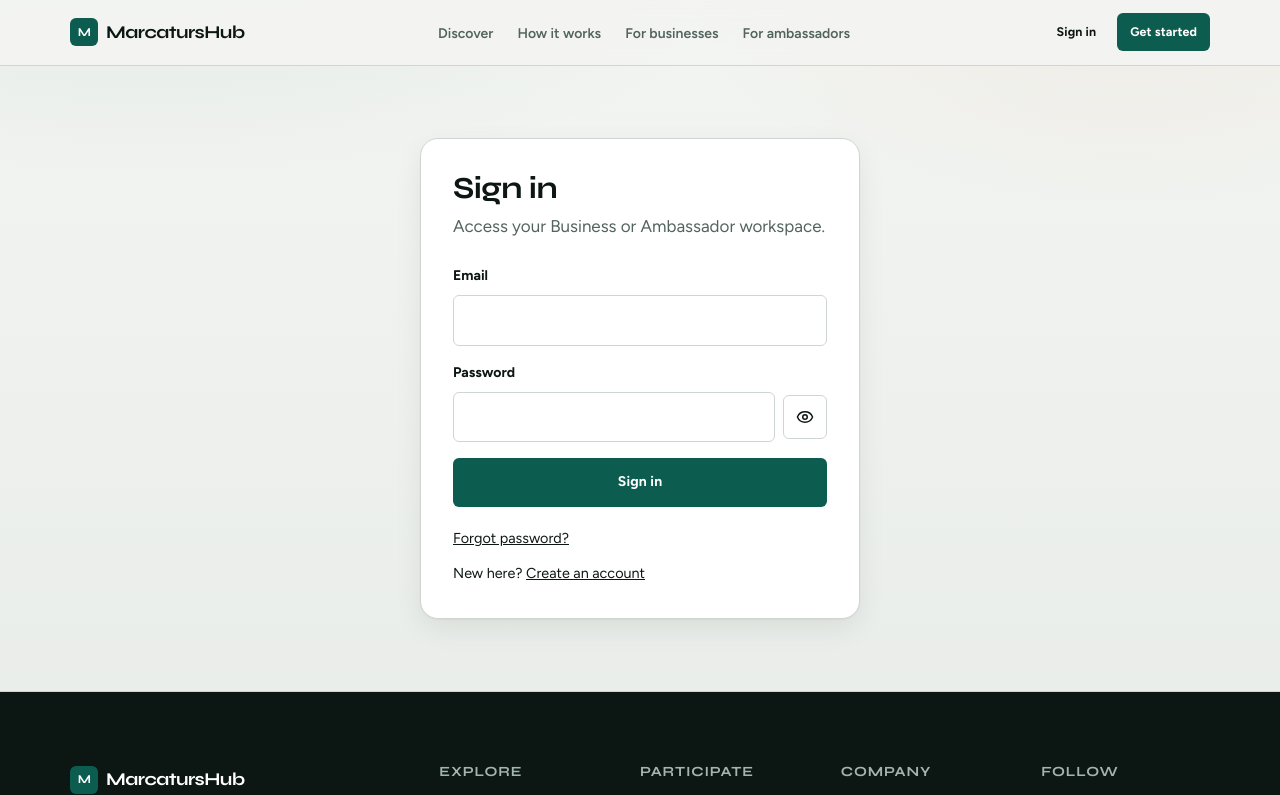
Test case: password visibility › hides the login password until the toggle is used, then preserves the value
Step 1. Type "Secret123!" into the password field labelled "Password" → (614, 417), box [453,392,775,442]
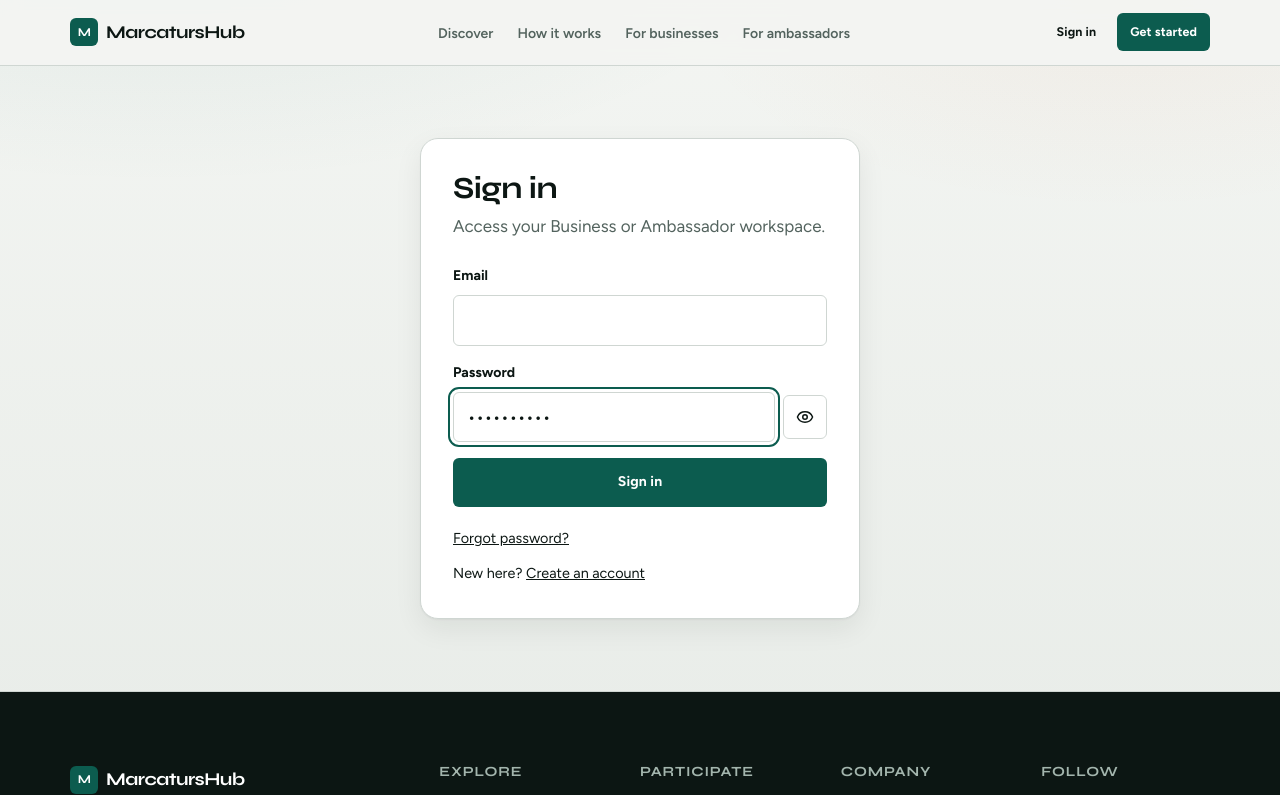
Step 2. Click the button named "Show password" → (805, 417), box [783,395,827,439]
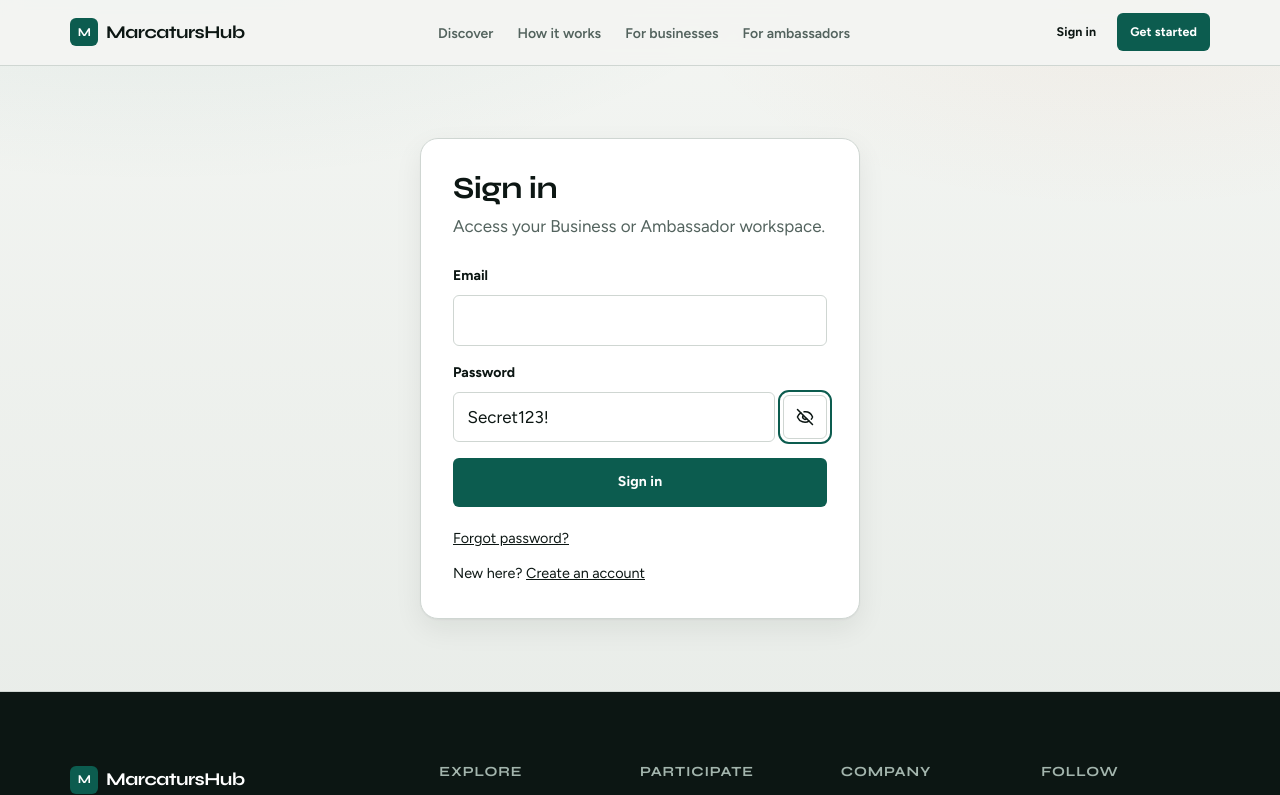
Expected: the heading "Sign in" is shown, [453,170,557,206]
Now the field labelled "Password" shows its text, box [453,392,775,442]
Step 3. Click the button named "Hide password" → (805, 417), box [783,395,827,439]
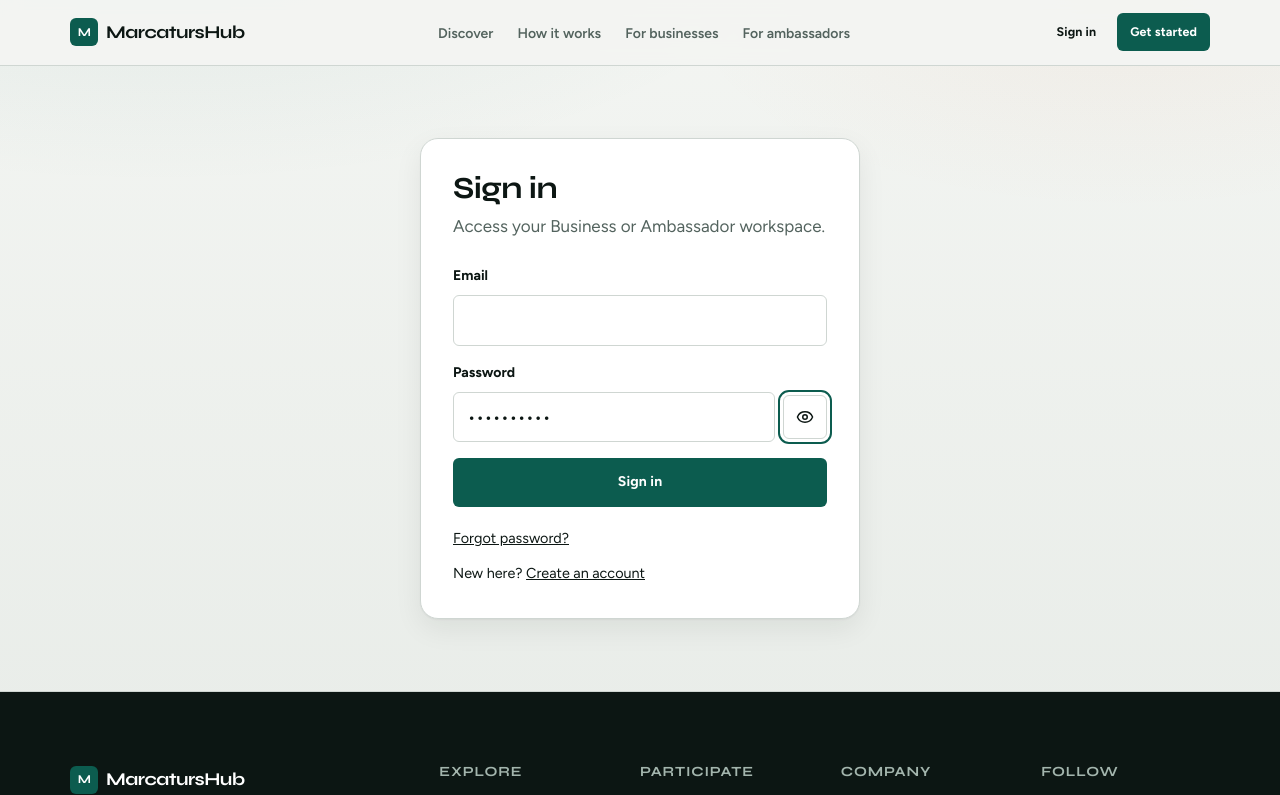
Now the password field labelled "Password" hides its text, box [453,392,775,442]
